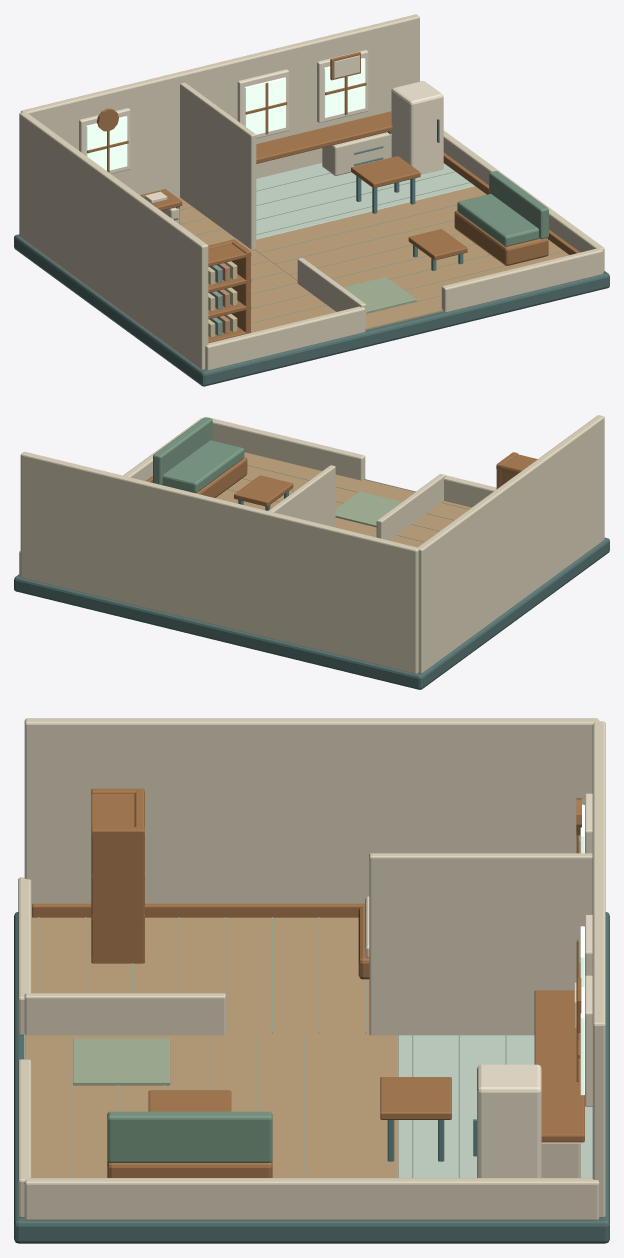
Rendered from interior-home-1.glb.
The picture shows the model from 3 angles, top to bottom: view 1: azimuth 30°, elevation 25°; view 2: azimuth 150°, elevation 25°; view 3: azimuth 270°, elevation 25°; orthographic projection. The views are drawn at different scales.
Parts seen in each view (by area): view 1: Surface Warm plaster, Surface Oak floor, Surface Honey oak, Interior plinth, Room floor.002, Surface Linen, Surface Daylight, Surface Sage upholstery, Surface Floor seam, Welcome rug, Surface Steel, Surface Book2; view 2: Surface Warm plaster, Interior plinth, Surface Oak floor, Surface Sage upholstery, Surface Honey oak, Welcome rug, Surface Floor seam; view 3: Surface Warm plaster, Surface Oak floor, Surface Honey oak, Interior plinth, Room floor.002, Surface Linen, Surface Sage upholstery, Welcome rug, Surface Floor seam, Surface Daylight, Surface Steel.
Boxes of the visible parts, x1=… form: Surface Warm plaster: x1=19, y1=14, x2=604, y2=370; Surface Oak floor: x1=178, y1=186, x2=569, y2=332; Surface Honey oak: x1=87, y1=52, x2=580, y2=343; Interior plinth: x1=14, y1=234, x2=609, y2=386; Room floor.002: x1=256, y1=163, x2=474, y2=239; Surface Linen: x1=79, y1=50, x2=443, y2=203; Surface Daylight: x1=86, y1=58, x2=365, y2=170; Surface Sage upholstery: x1=457, y1=171, x2=548, y2=246; Surface Floor seam: x1=180, y1=171, x2=564, y2=328; Welcome rug: x1=343, y1=277, x2=416, y2=313; Surface Steel: x1=174, y1=119, x2=463, y2=270; Surface Book2: x1=208, y1=261, x2=237, y2=337; Surface Warm plaster: x1=19, y1=415, x2=604, y2=673; Interior plinth: x1=14, y1=537, x2=609, y2=689; Surface Oak floor: x1=215, y1=452, x2=471, y2=547; Surface Sage upholstery: x1=153, y1=417, x2=244, y2=492; Surface Honey oak: x1=146, y1=452, x2=537, y2=506; Welcome rug: x1=335, y1=491, x2=401, y2=527; Surface Floor seam: x1=227, y1=465, x2=469, y2=541; Surface Warm plaster: x1=18, y1=718, x2=605, y2=1220; Surface Oak floor: x1=25, y1=914, x2=398, y2=1177; Surface Honey oak: x1=32, y1=788, x2=584, y2=1177; Interior plinth: x1=14, y1=912, x2=609, y2=1243; Room floor.002: x1=398, y1=1035, x2=592, y2=1177; Surface Linen: x1=365, y1=793, x2=592, y2=1177; Surface Sage upholstery: x1=107, y1=1111, x2=272, y2=1162; Welcome rug: x1=73, y1=1038, x2=170, y2=1085; Surface Floor seam: x1=24, y1=917, x2=506, y2=1177; Surface Daylight: x1=580, y1=804, x2=584, y2=1095; Surface Steel: x1=387, y1=1119, x2=476, y2=1161.
Size of the model in its own units: 10.3 by 3.33 by 8.3.
